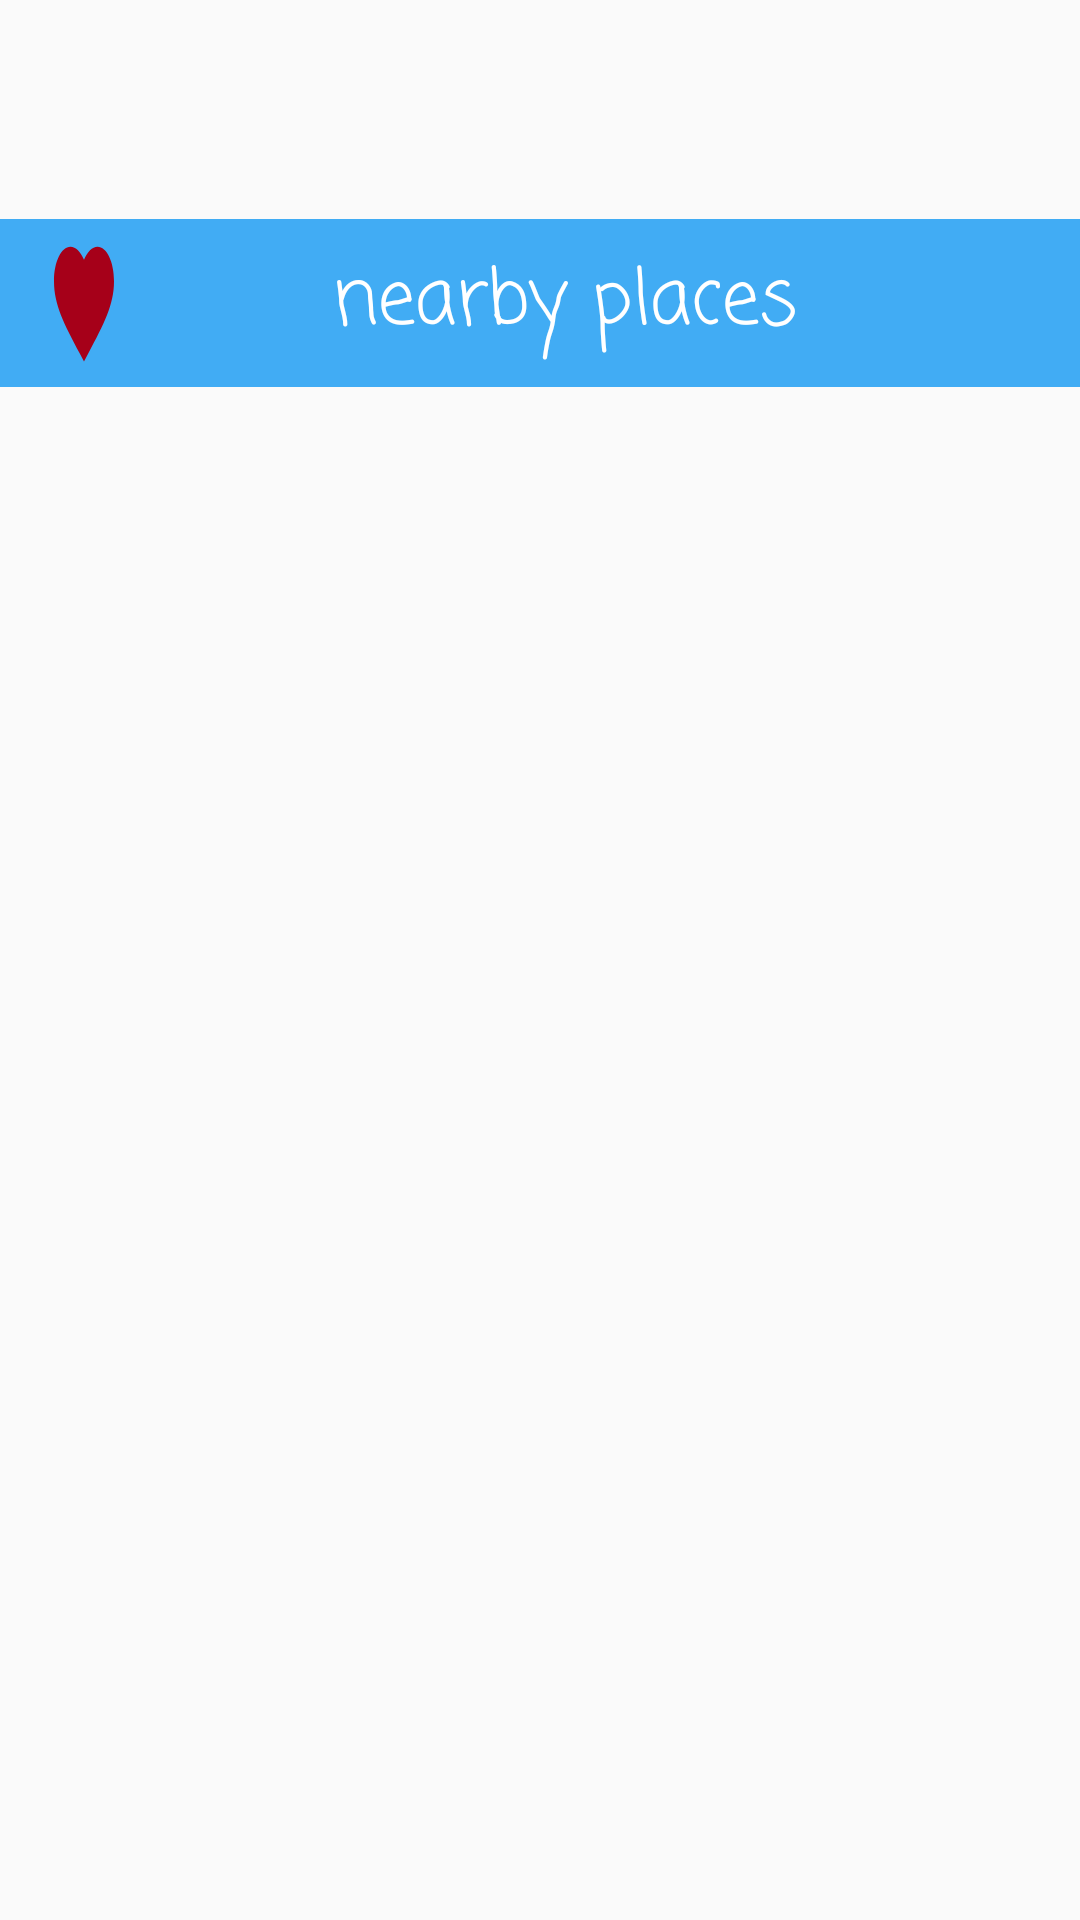

Icon bounding boxes for this 1080*1920 phone screenshot, format box=[x1, y1, x2, y2]:
favorite: box=[54, 246, 114, 361]
